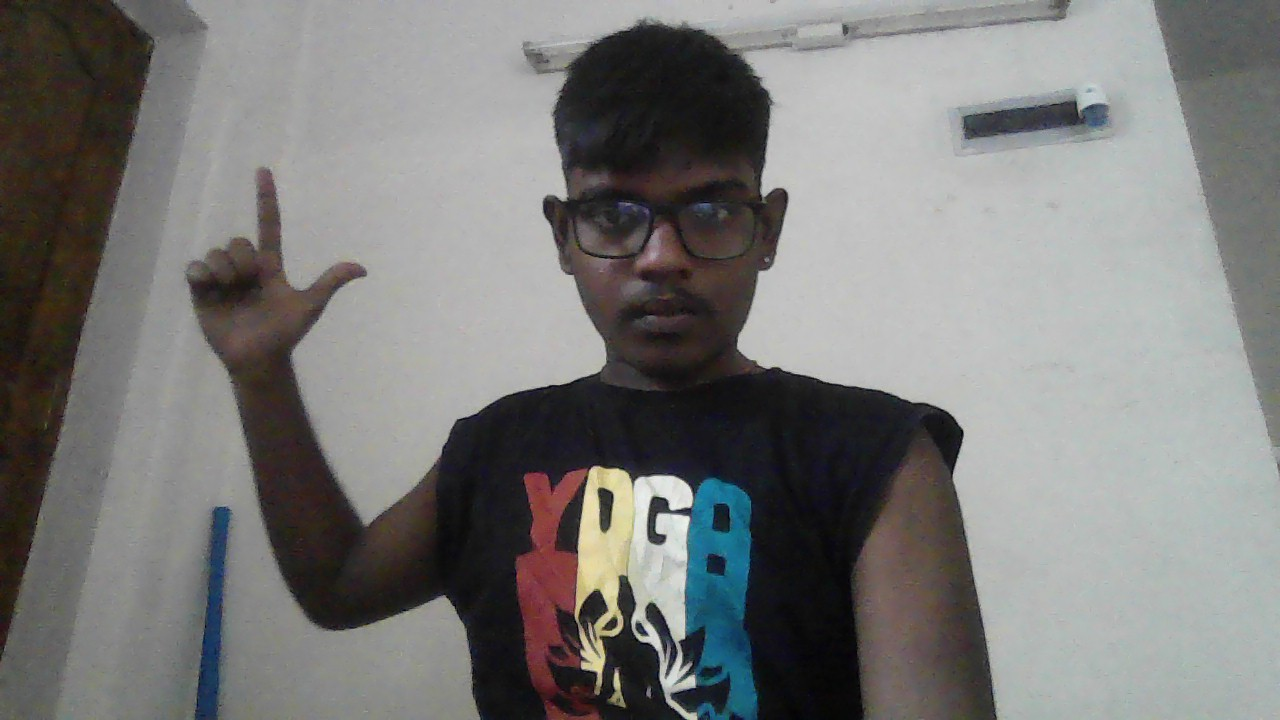L: (191, 168, 368, 376)
